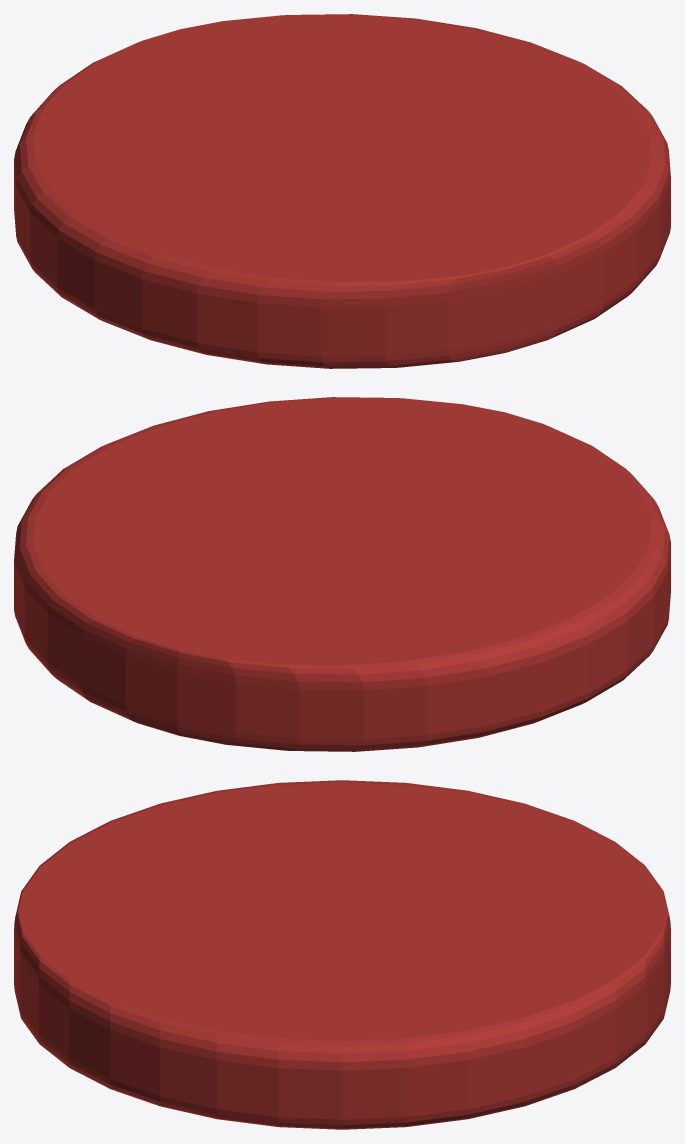
The model's file is Steak.fbx.
3 renders of one model, top to bottom at view 1: azimuth 30°, elevation 25°; view 2: azimuth 150°, elevation 25°; view 3: azimuth 270°, elevation 25°, orthographic.
Visible parts, largest first — view 1: Steak; view 2: Steak; view 3: Steak.
Boxes of the visible parts, bbox=[...] form: Steak: bbox=[14, 14, 670, 368]; Steak: bbox=[14, 397, 670, 751]; Steak: bbox=[14, 780, 670, 1129].
Size of the model in its own units: 200 by 28.55 by 200.
